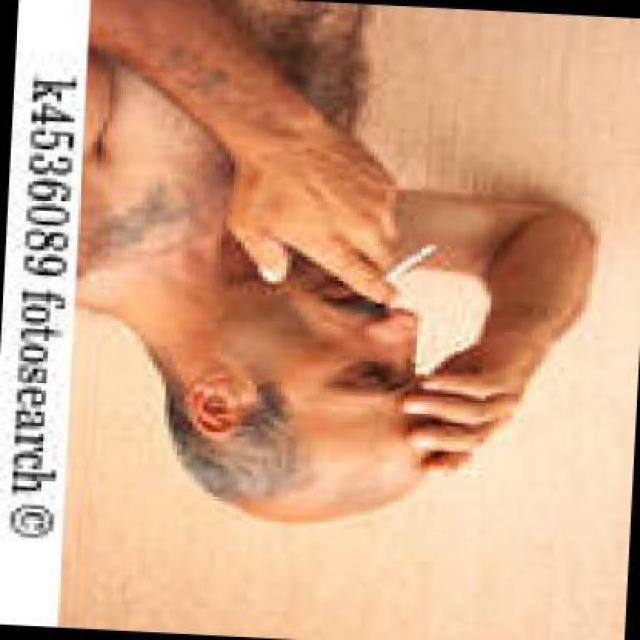smoke: (376, 237, 433, 283)
